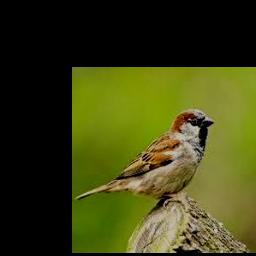Sparrow: (74, 108, 215, 209)
